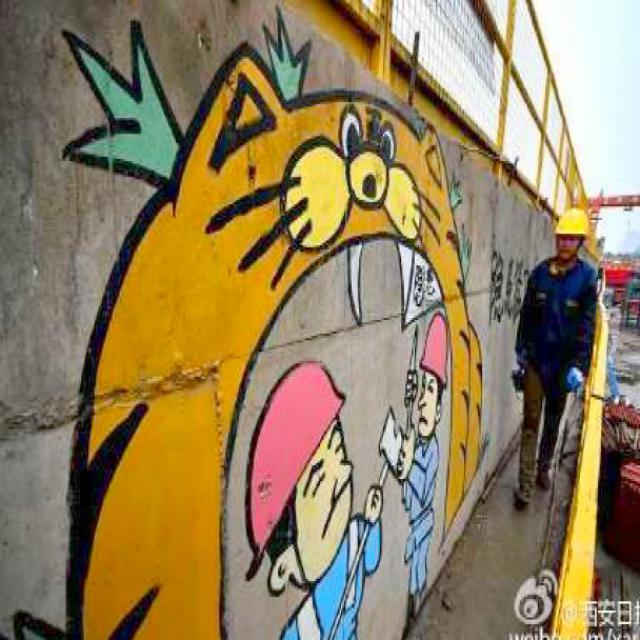helmet: (550, 200, 592, 264)
